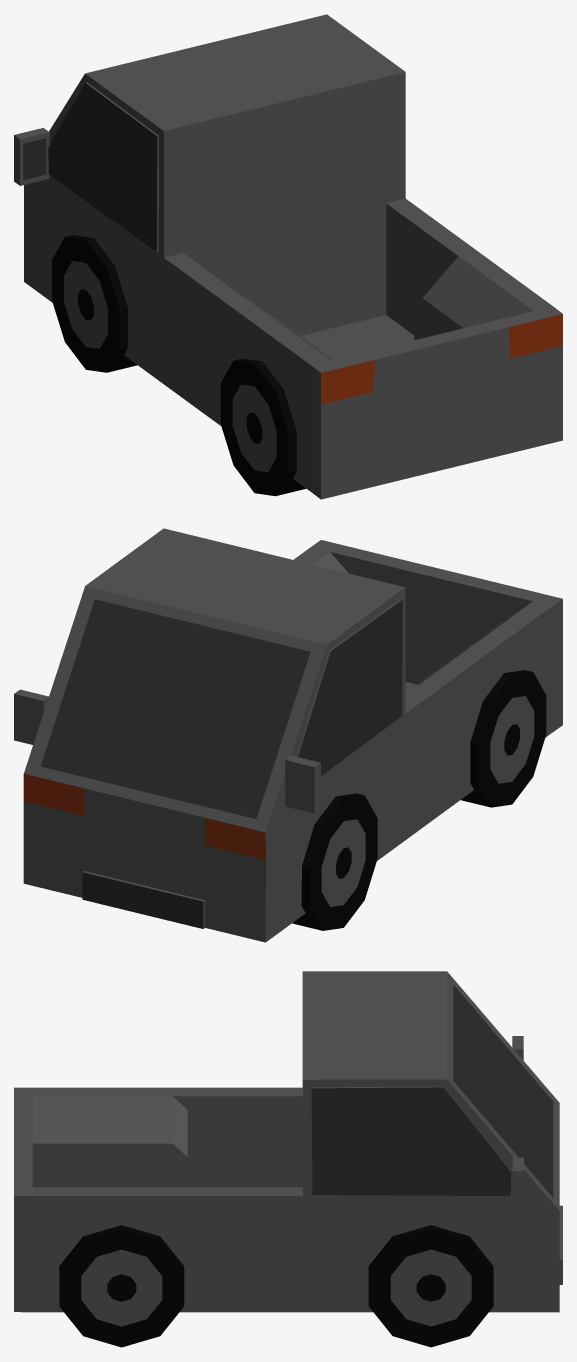
File: mobil 2.fbx
3 renders of one model, top to bottom at view 1: azimuth 30°, elevation 25°; view 2: azimuth 150°, elevation 25°; view 3: azimuth 270°, elevation 25°, orthographic. The views are drawn at different scales.
Visible parts, largest first — view 1: Cube.009; view 2: Cube.009; view 3: Cube.009.
Boxes of the visible parts, left/top/right/bottom form: Cube.009: left=14, top=14, right=562, bottom=499; Cube.009: left=14, top=528, right=562, bottom=942; Cube.009: left=14, top=971, right=562, bottom=1347.
Size of the model in its own units: 205 by 187 by 352.
